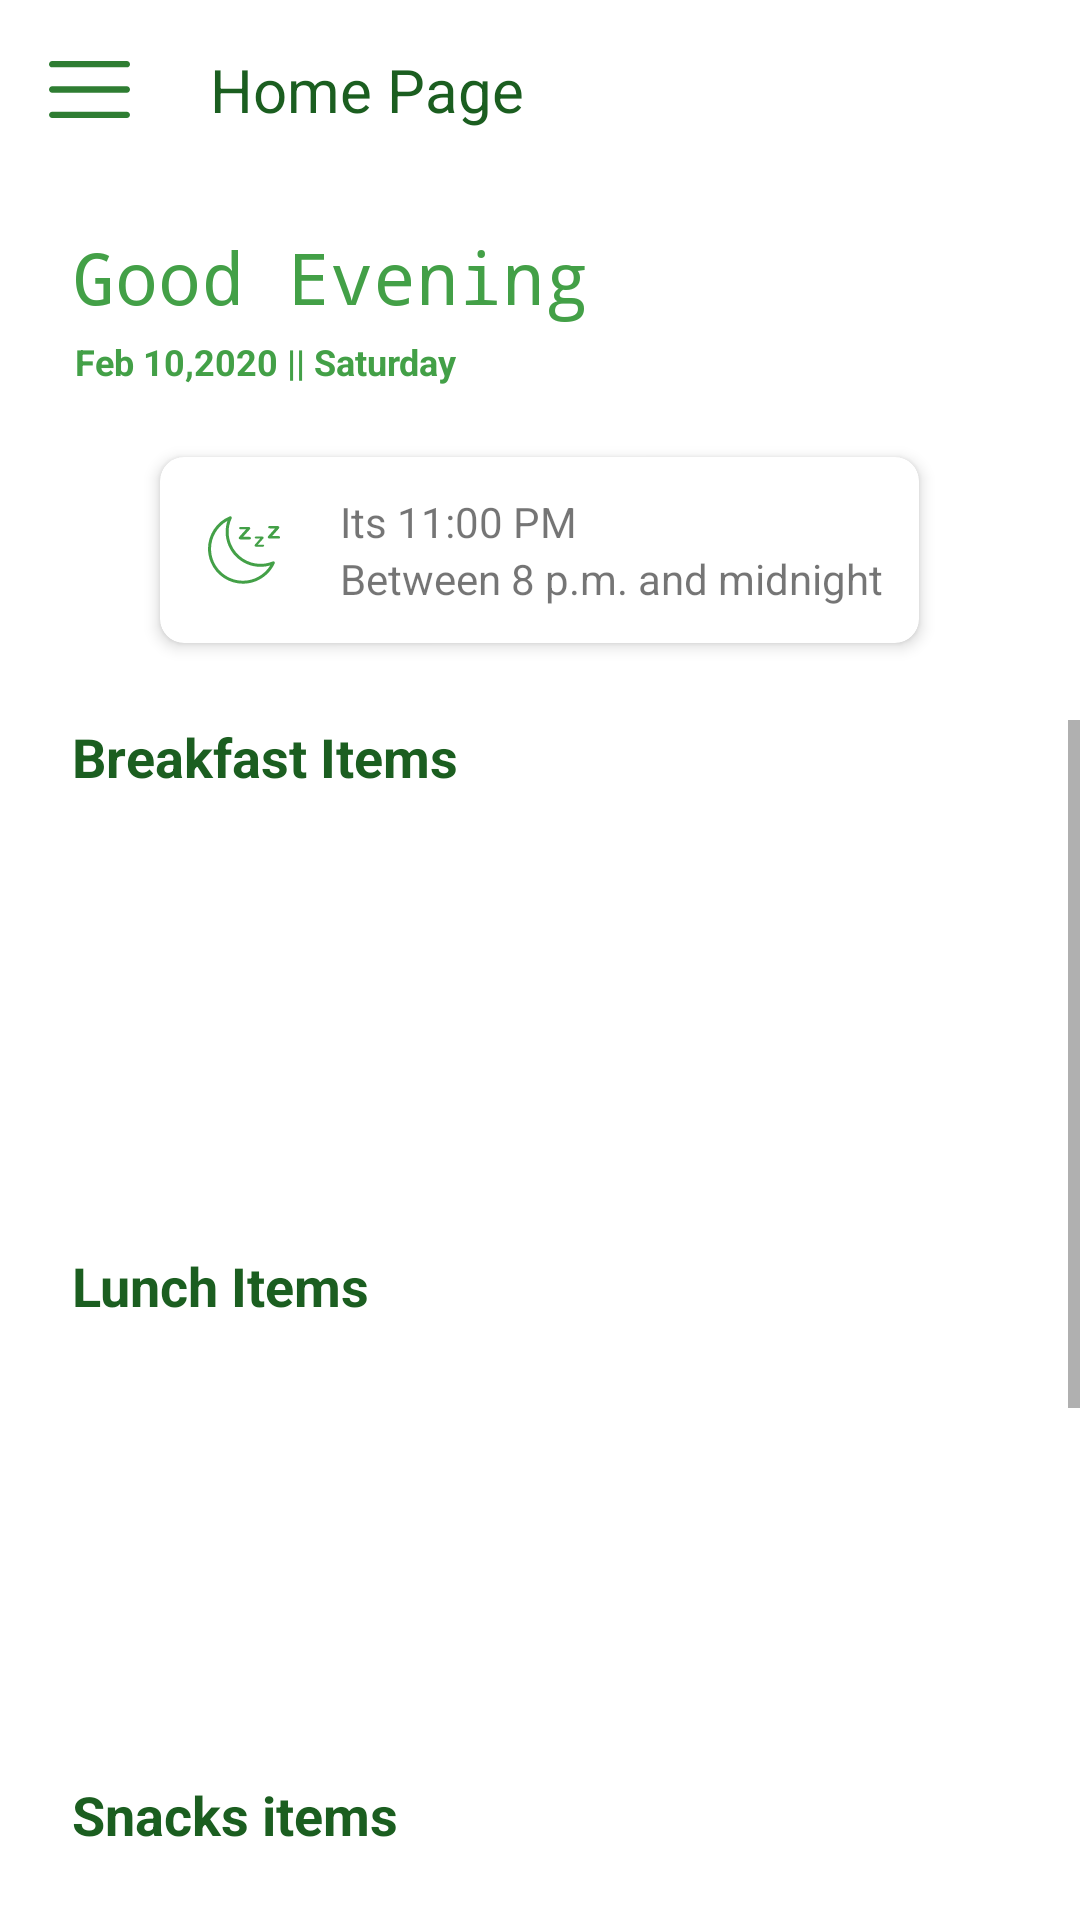

Named icons in this screenshot (1080px×1920px) and their bounding boxes, (x1, y1, x2, y2):
menu: (49, 61, 130, 118)
sleep time: (208, 516, 280, 584)
